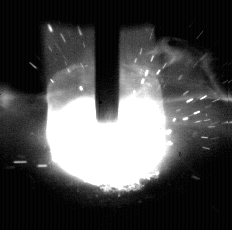arame: (95, 0, 120, 122)
poca: (45, 0, 174, 230)
